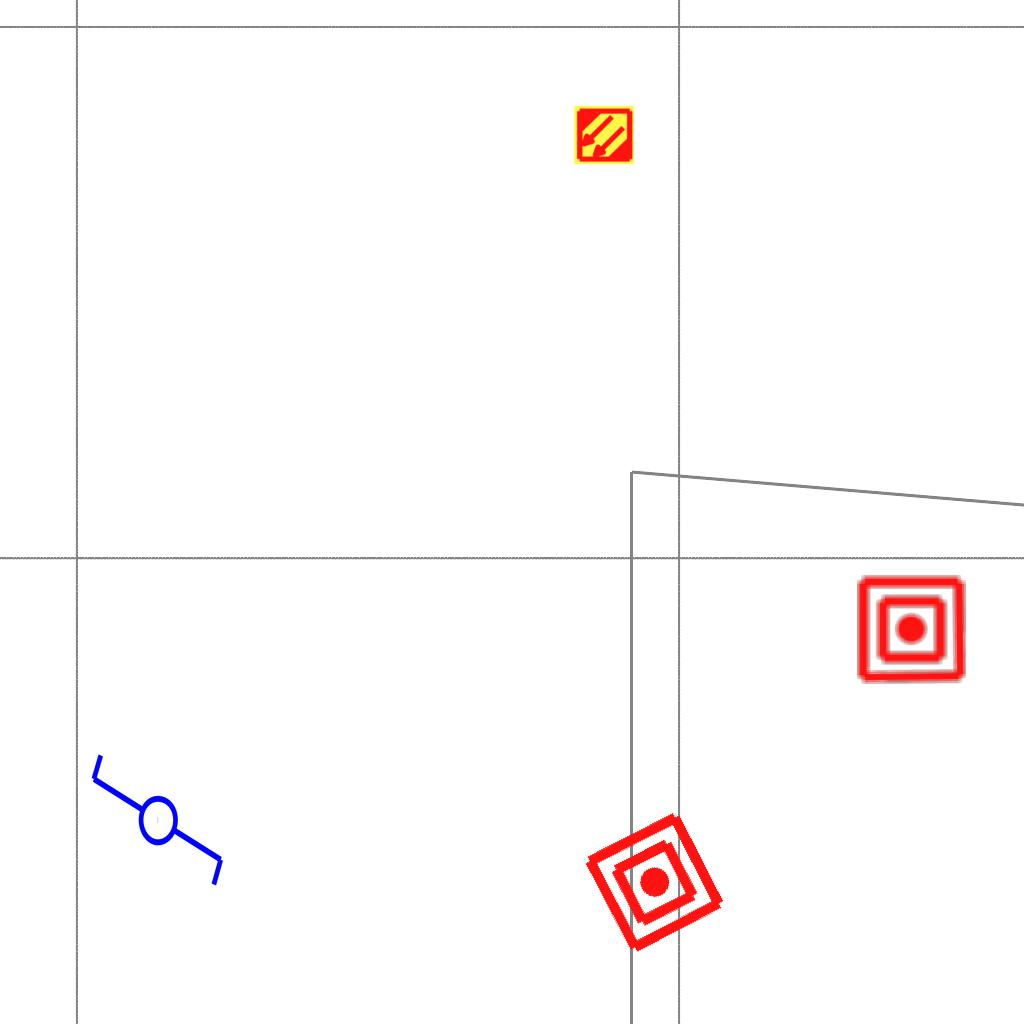ASR_Ansaugrauchmelder: (573, 104, 635, 166)
NAM-Nichtautomatischer_Melder: (578, 806, 731, 959), (855, 573, 968, 686)
Wechselschalter: (84, 750, 228, 907)
